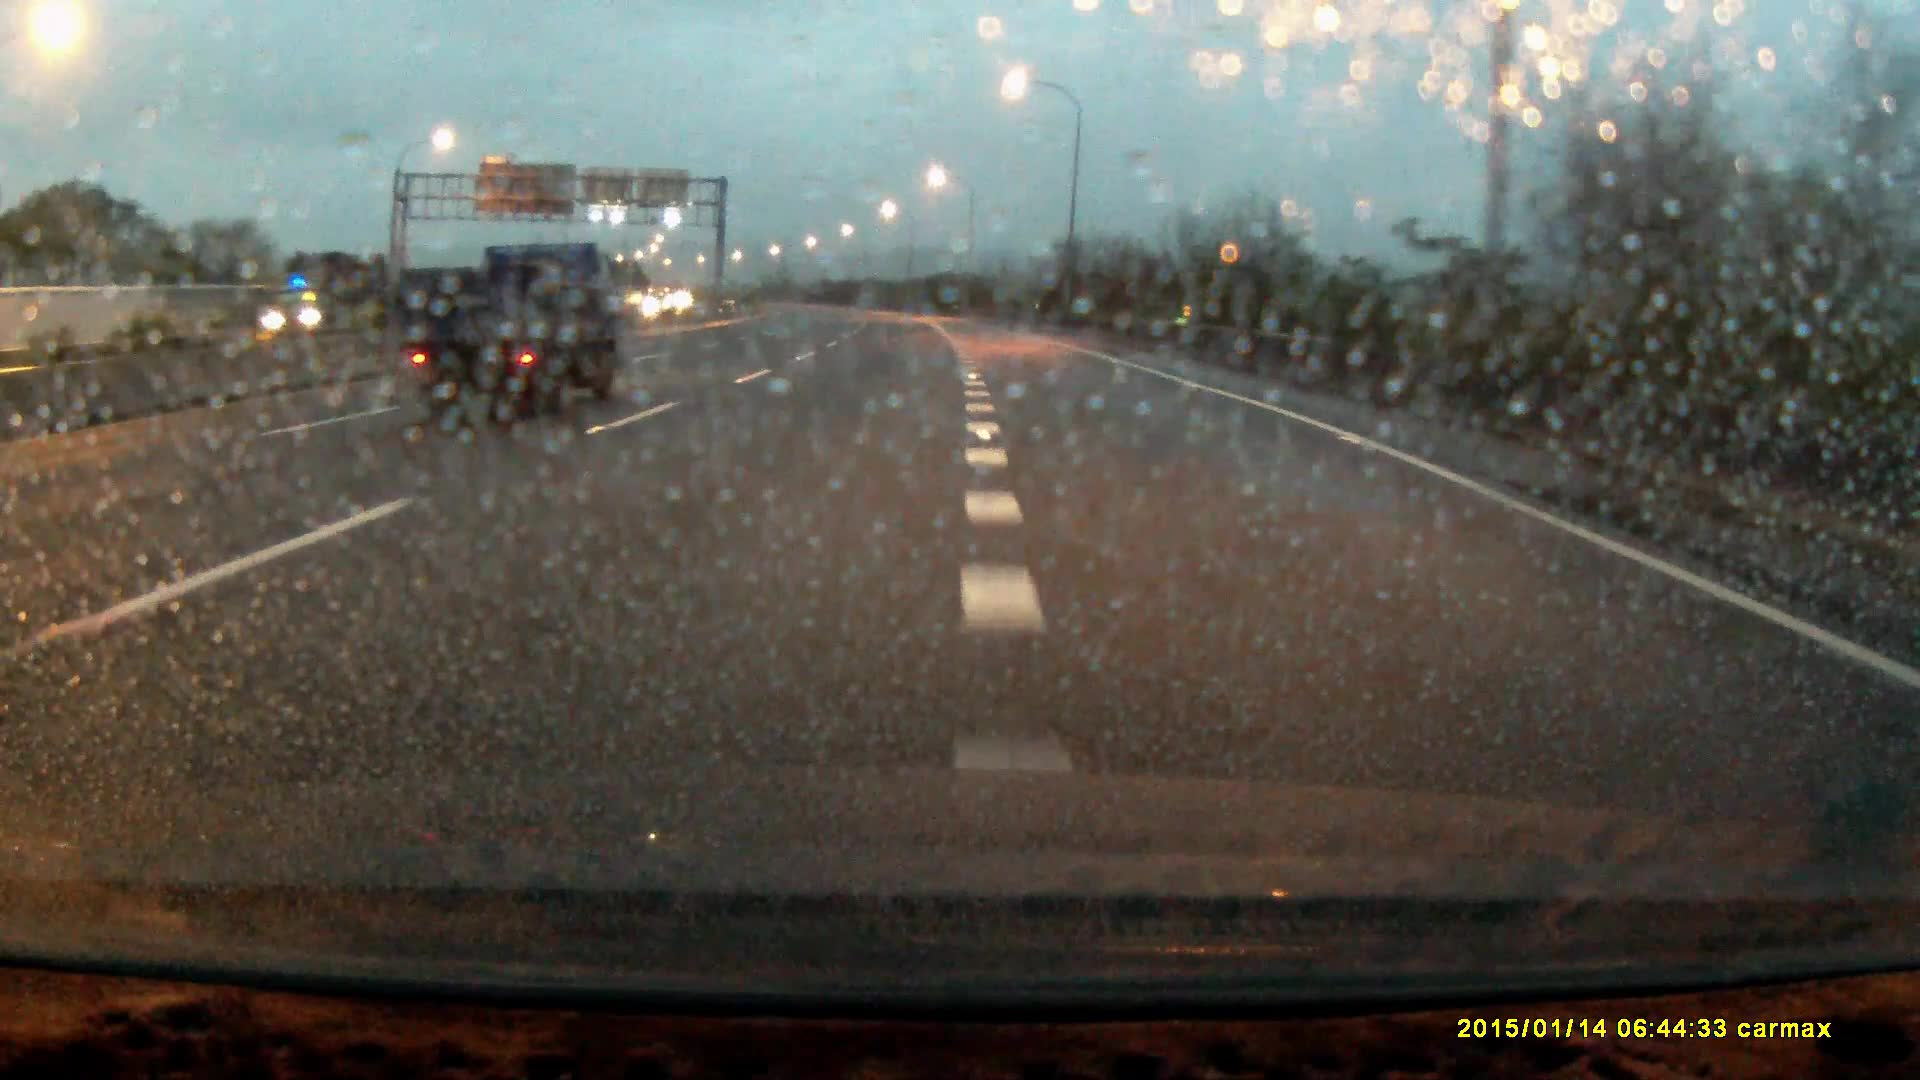vehicle: (394, 243, 617, 419), (262, 272, 382, 331)
